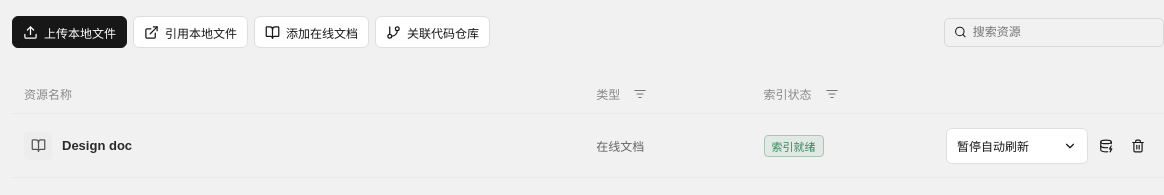
Scenario: SpaceKnowledgePanel › publishes a safe toast when deleting a resource fails
Click the button named "删除 Design doc" at (1138, 146), box [1124,132,1152,160]
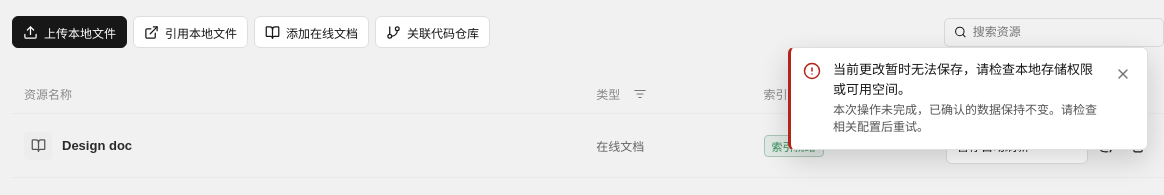
Check: the text "当前更改暂时无法保存，请检查本地存储权限或可用空间。" is shown, box [833,60,1099,99]
